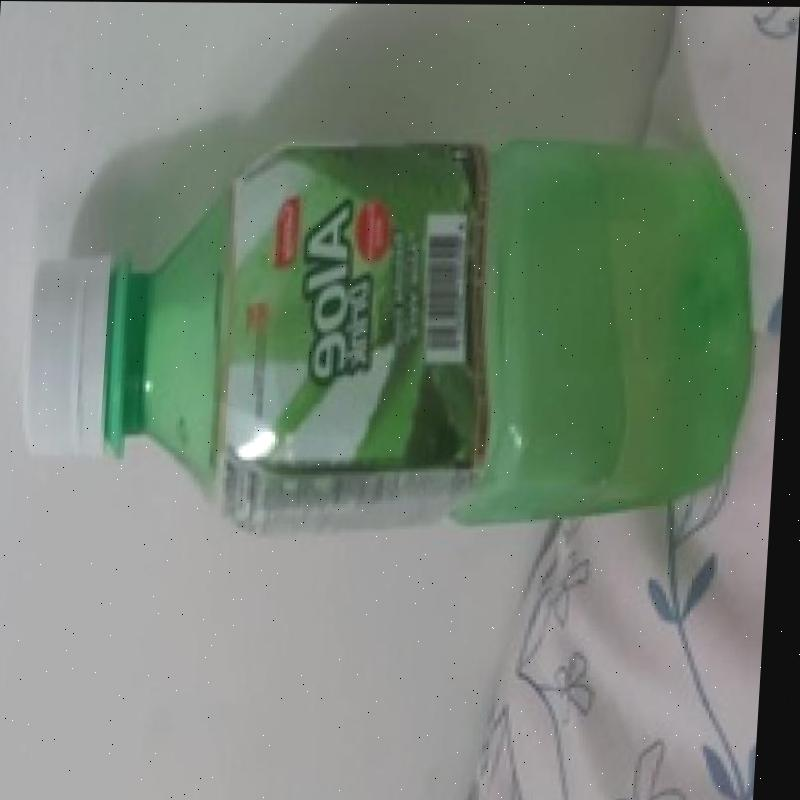botella: (14, 133, 769, 537)
